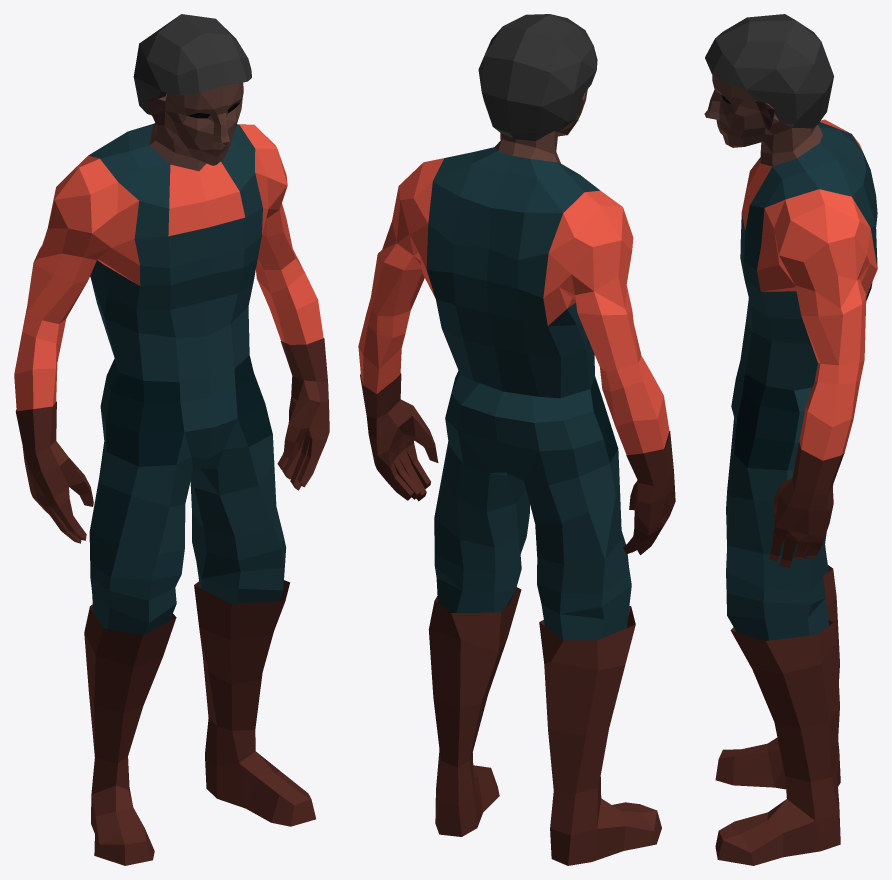
The model's file is Male_01.FBX.
The picture shows the model from 3 angles, left to right: view 1: azimuth 30°, elevation 25°; view 2: azimuth 150°, elevation 25°; view 3: azimuth 270°, elevation 25°; orthographic projection.
Parts seen in each view (by area): view 1: Male_01; view 2: Male_01; view 3: Male_01.
Part boxes in pixels (left/top/right/bottom): Male_01: left=14, top=14, right=329, bottom=865; Male_01: left=358, top=14, right=675, bottom=865; Male_01: left=704, top=14, right=877, bottom=865.
Bounding box in the file's own units: 0.712 × 1.79 × 0.3544.
1 material, 1 textured.
